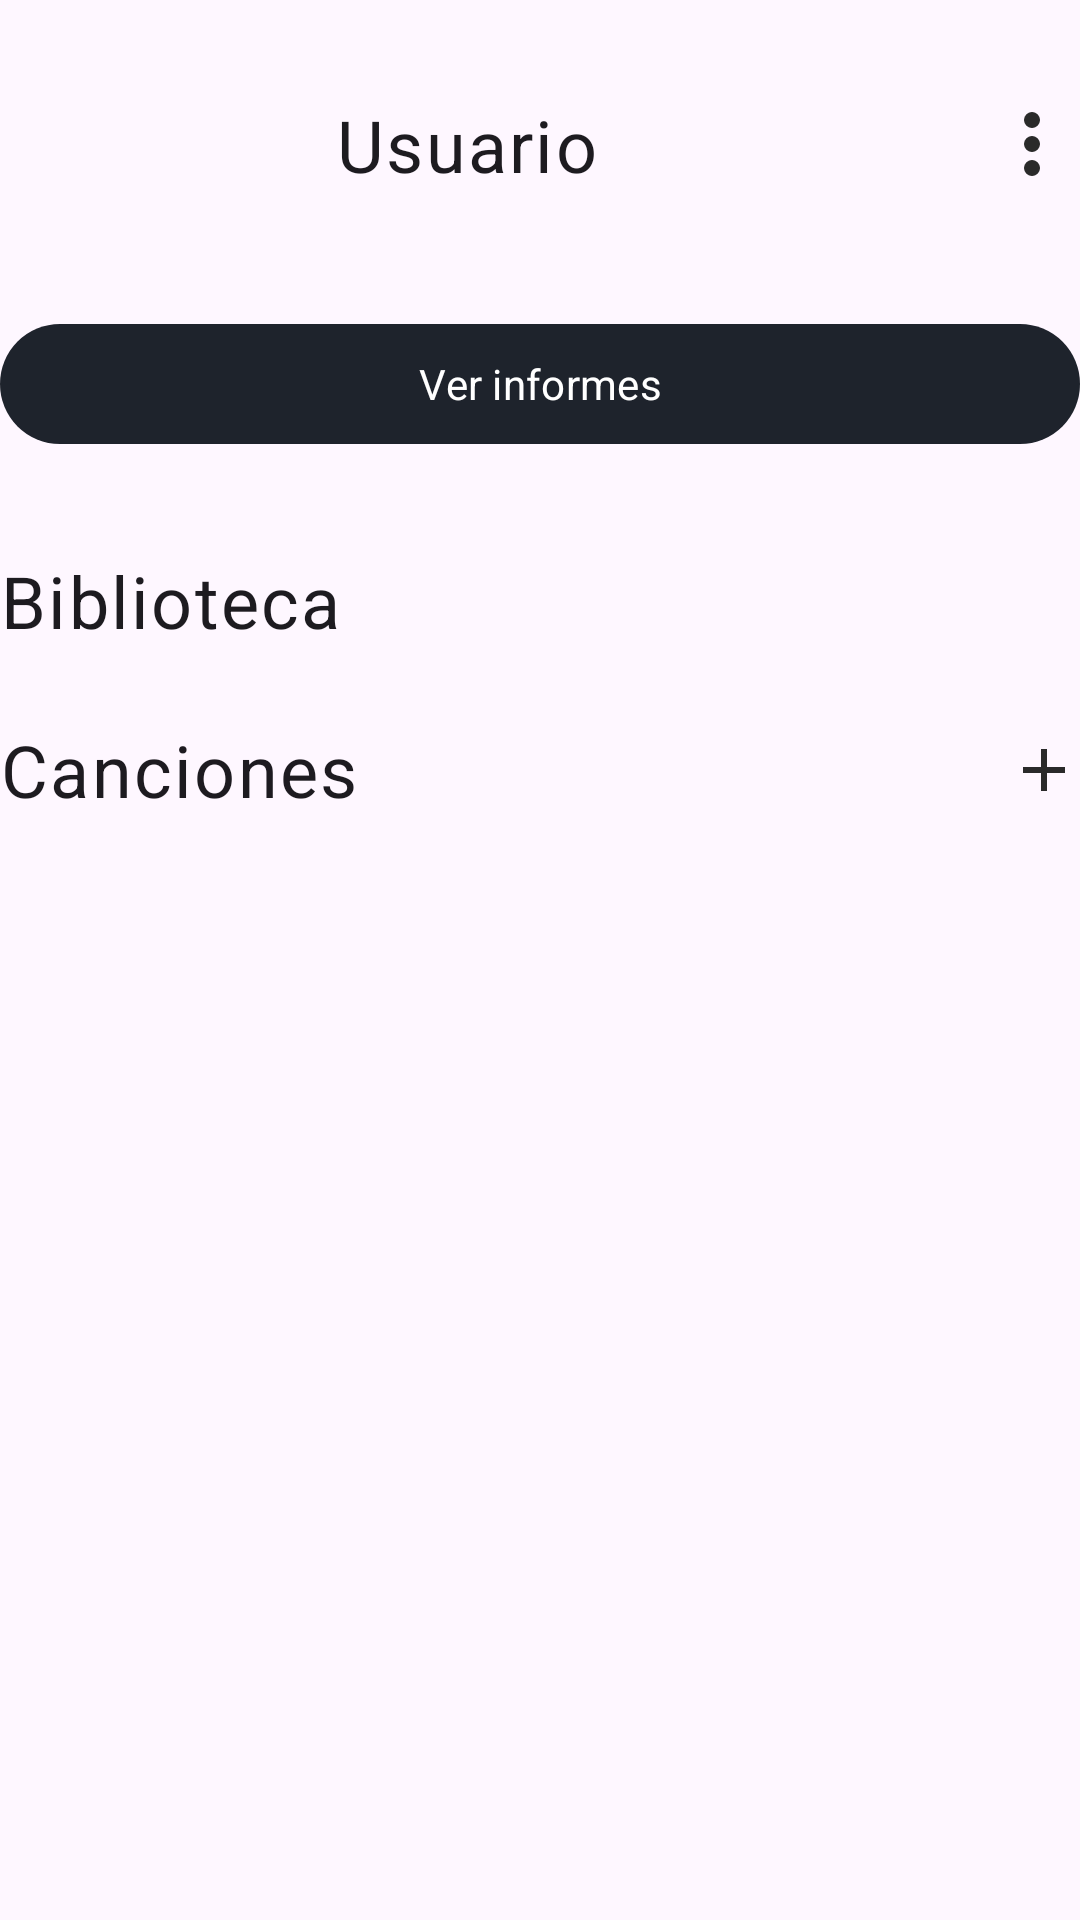

Named icons in this screenshot (1080*1920) and their centers, [x,y]:
Añadir canción: [1044,770]
